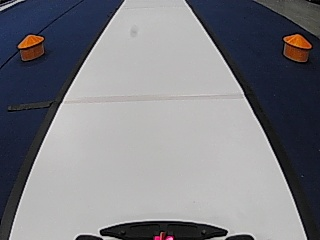granary: (281, 32, 312, 62), (16, 32, 44, 61)
